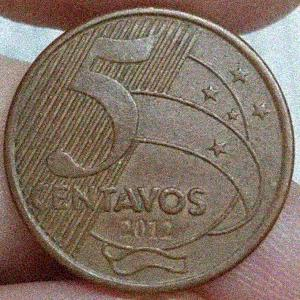5 cent: (2, 6, 295, 293)
